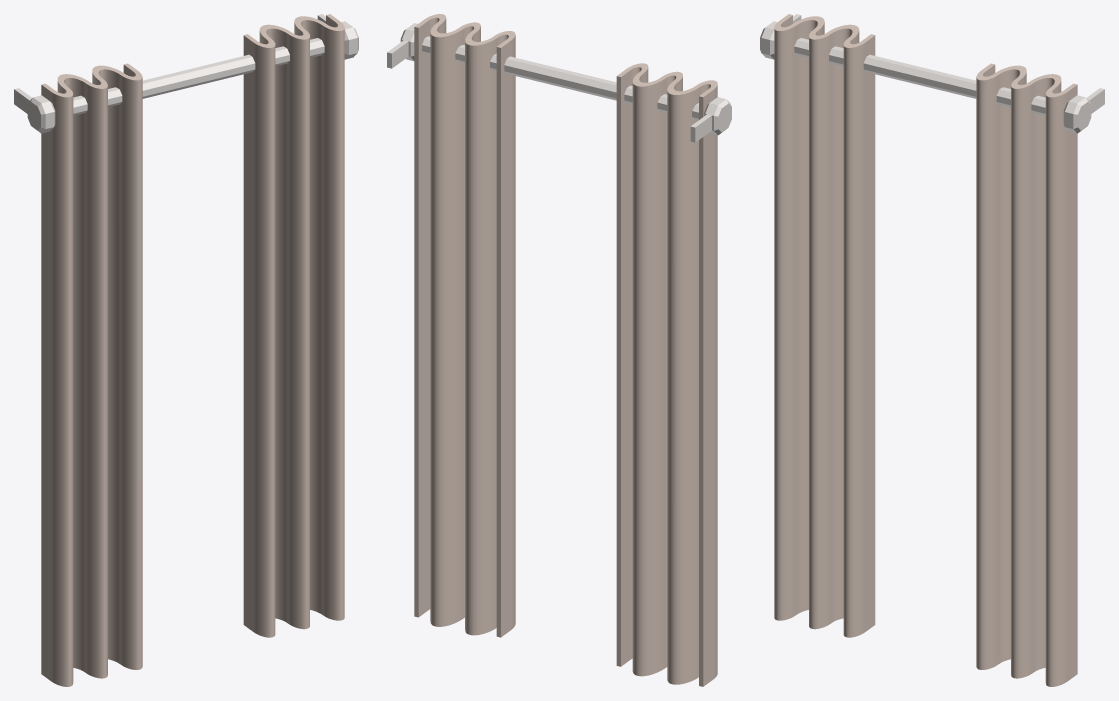
Rendered from Prop_Curtains_Single.fbx.
3 renders of one model, left to right at view 1: azimuth 30°, elevation 25°; view 2: azimuth 150°, elevation 25°; view 3: azimuth 330°, elevation 25°, orthographic.
Parts seen in each view (by area): view 1: object2.011, object3.009, object1.014; view 2: object2.011, object3.009, object1.014; view 3: object3.009, object2.011, object1.014.
Boxes of the visible parts, x1,y1,x2,y2 form: object2.011: (243, 14, 344, 637); object3.009: (41, 63, 142, 686); object1.014: (14, 14, 358, 133); object2.011: (414, 14, 515, 637); object3.009: (616, 63, 717, 686); object1.014: (387, 23, 731, 142); object3.009: (774, 14, 875, 637); object2.011: (976, 63, 1077, 686); object1.014: (760, 14, 1104, 133).
Bounding box in the file's own units: 110 × 195 × 22.5.
